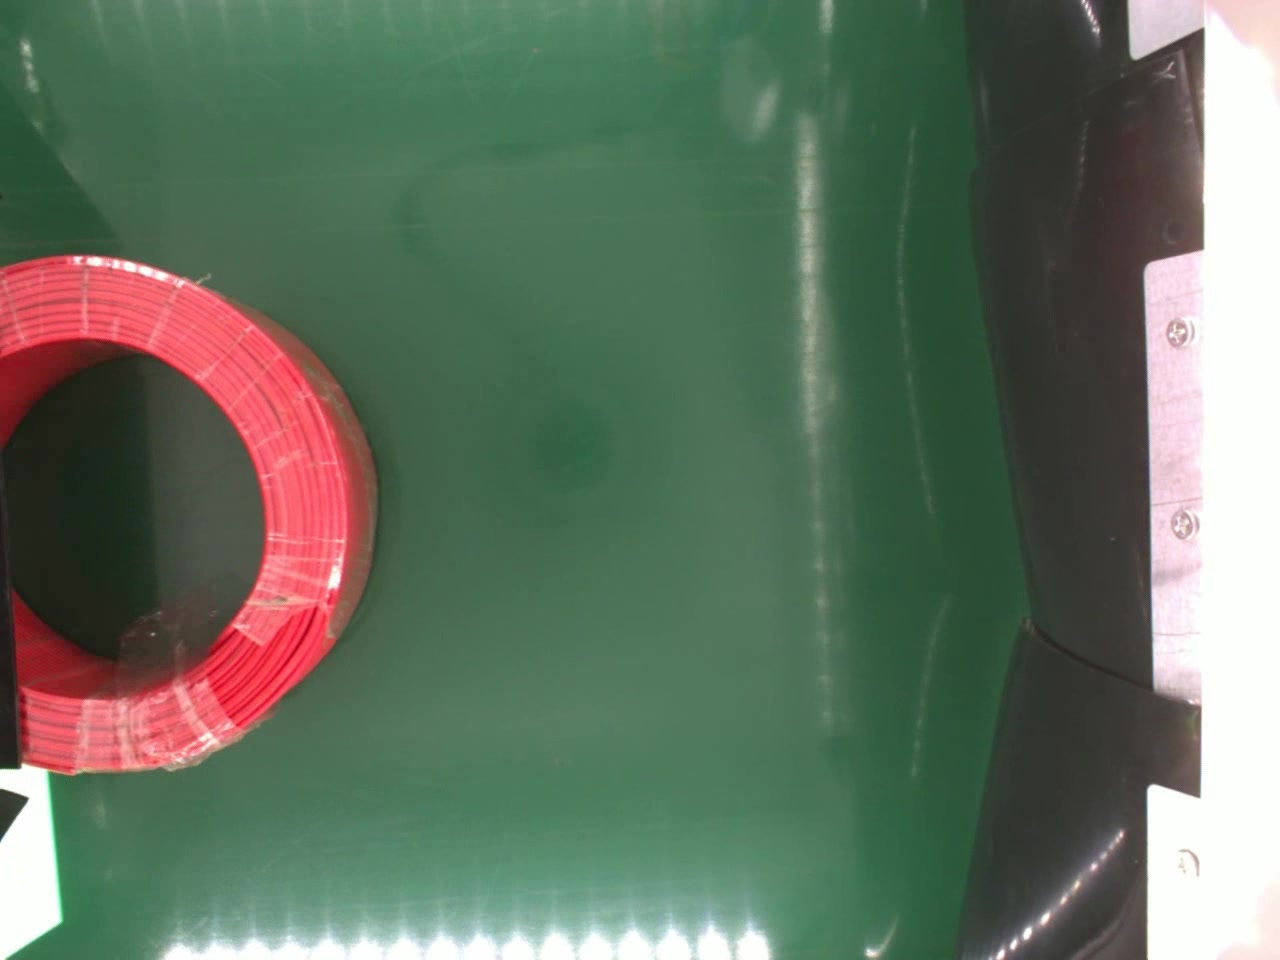red: (0, 251, 380, 773)
